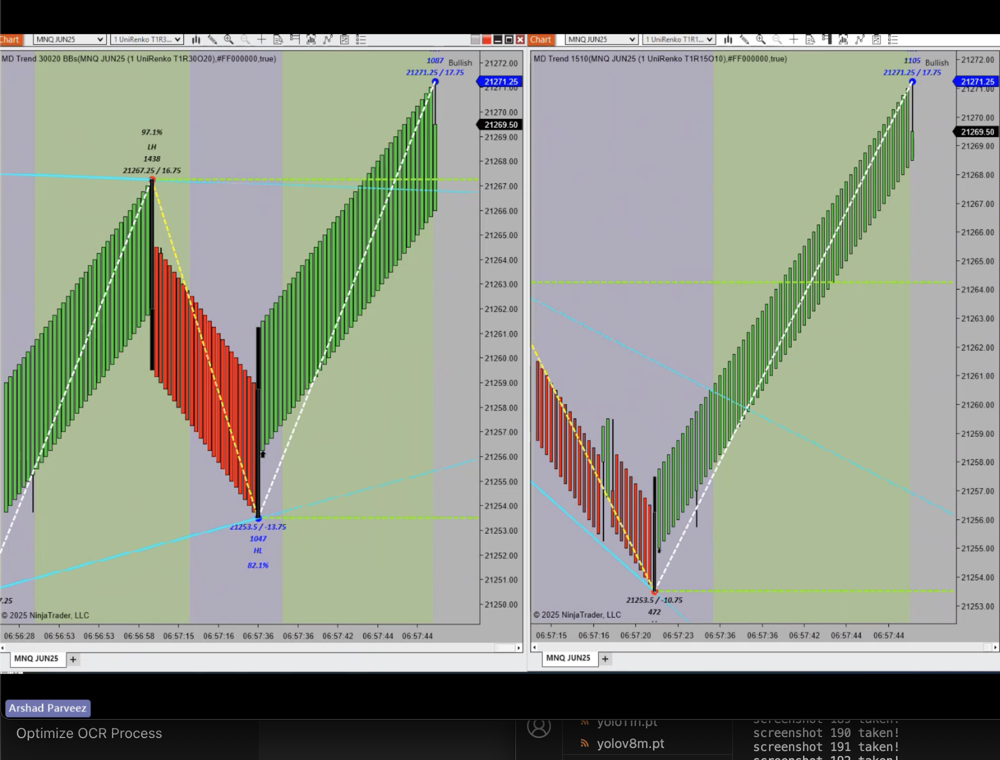HL: (246, 544, 269, 557)
LH: (141, 139, 163, 156)
